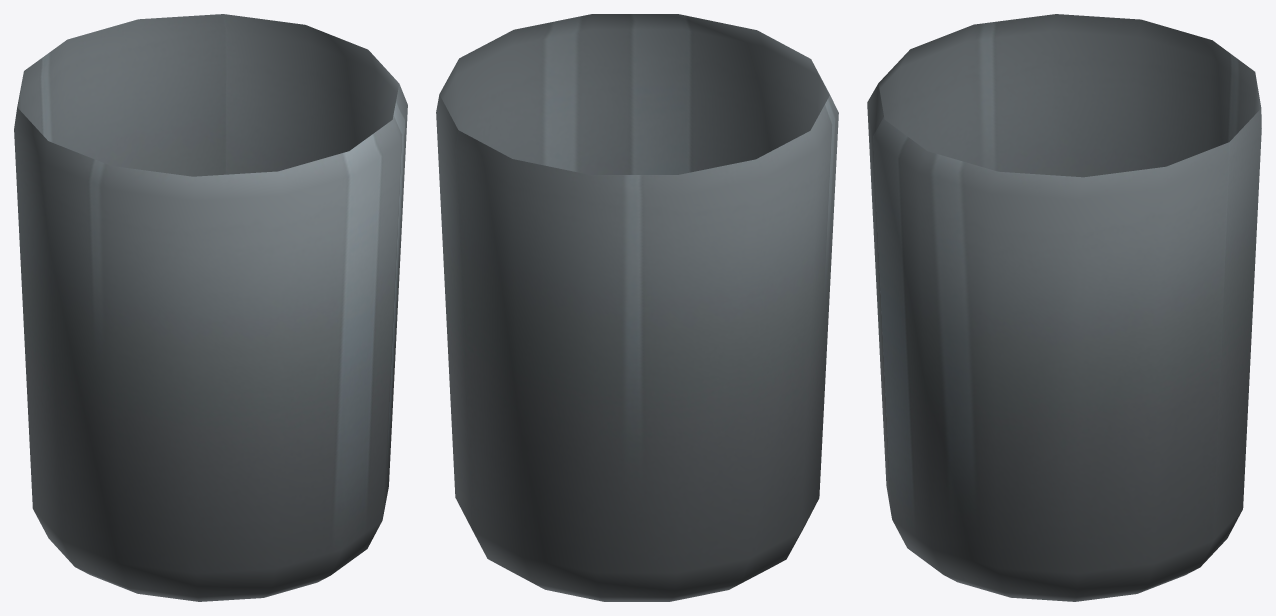
The model's file is frl_apartment_kitchen_utensil_06.glb.
The picture shows the model from 3 angles, left to right: view 1: azimuth 30°, elevation 25°; view 2: azimuth 150°, elevation 25°; view 3: azimuth 270°, elevation 25°; orthographic projection.
Visible parts, largest first — view 1: frl_apartment_kitchen_utensil_06; view 2: frl_apartment_kitchen_utensil_06; view 3: frl_apartment_kitchen_utensil_06.
Boxes of the visible parts, x1,y1,x2,y2 form: frl_apartment_kitchen_utensil_06: (14,14,407,601); frl_apartment_kitchen_utensil_06: (436,14,838,601); frl_apartment_kitchen_utensil_06: (867,14,1261,601).
Size of the model in its own units: 0.1006 by 0.1239 by 0.0997.
1 material, 1 textured.
